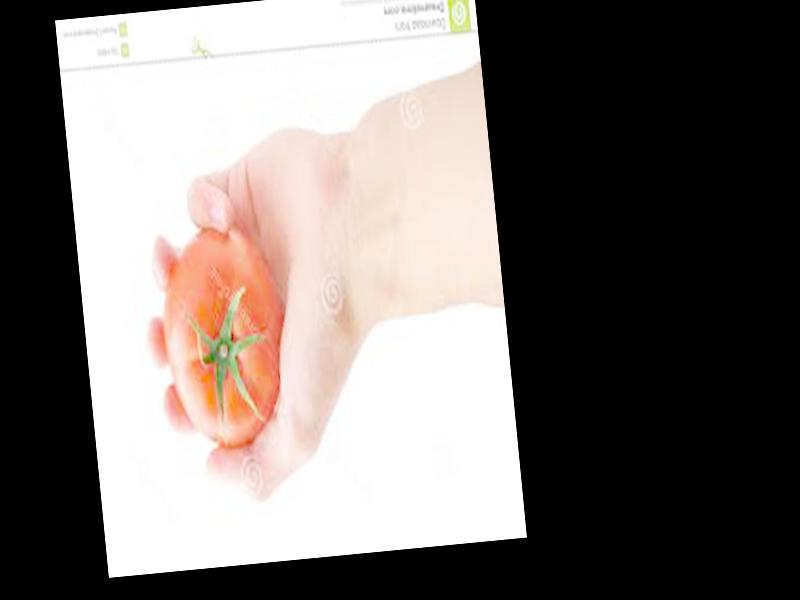Tomato: (155, 220, 291, 448)
